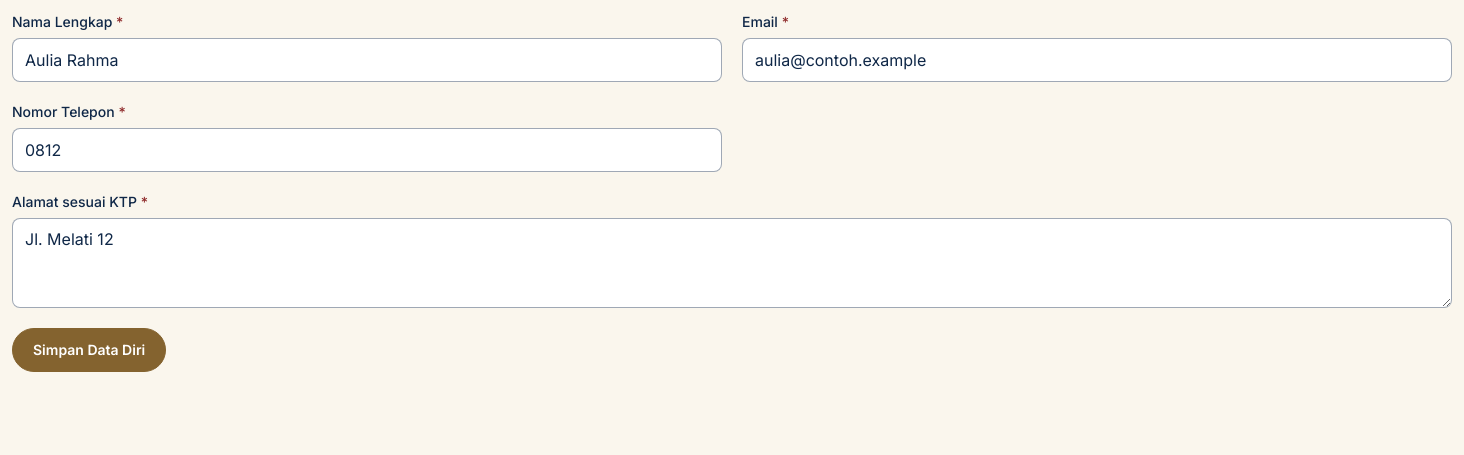
Scenario: FormProfil (FR-AKN-07/08) › FR_AKN_07_profil_kirim_hanya_4_field
Replace the text in the field labelled "Nama Lengkap *" with "Aulia R.": (367,60) left=12, top=38, right=722, bottom=82
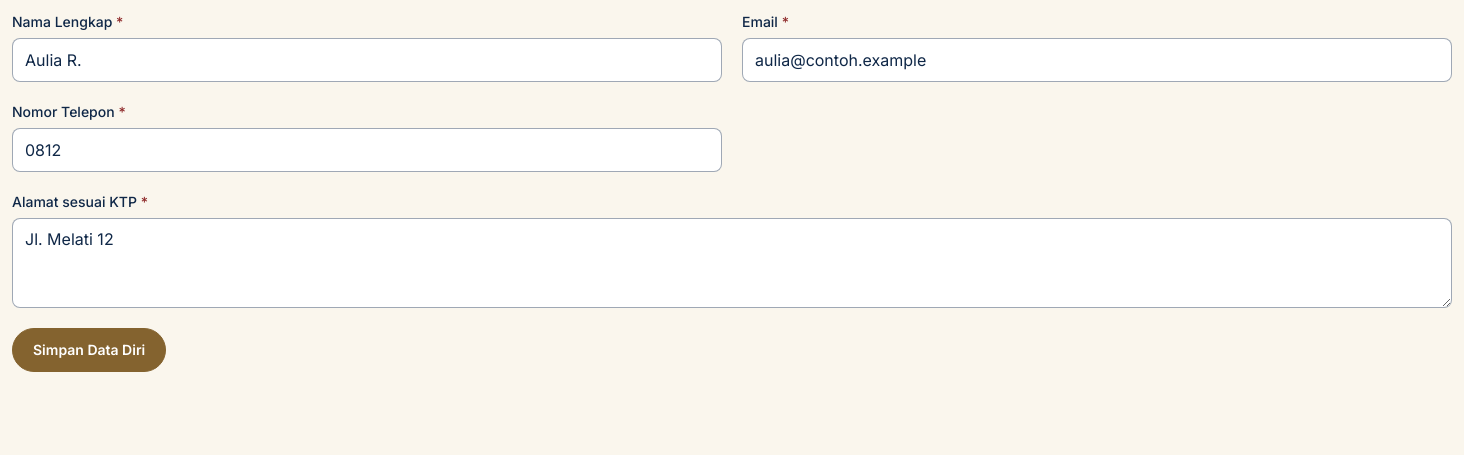
Click the button "Simpan Data Diri": (89,350) left=12, top=328, right=166, bottom=372
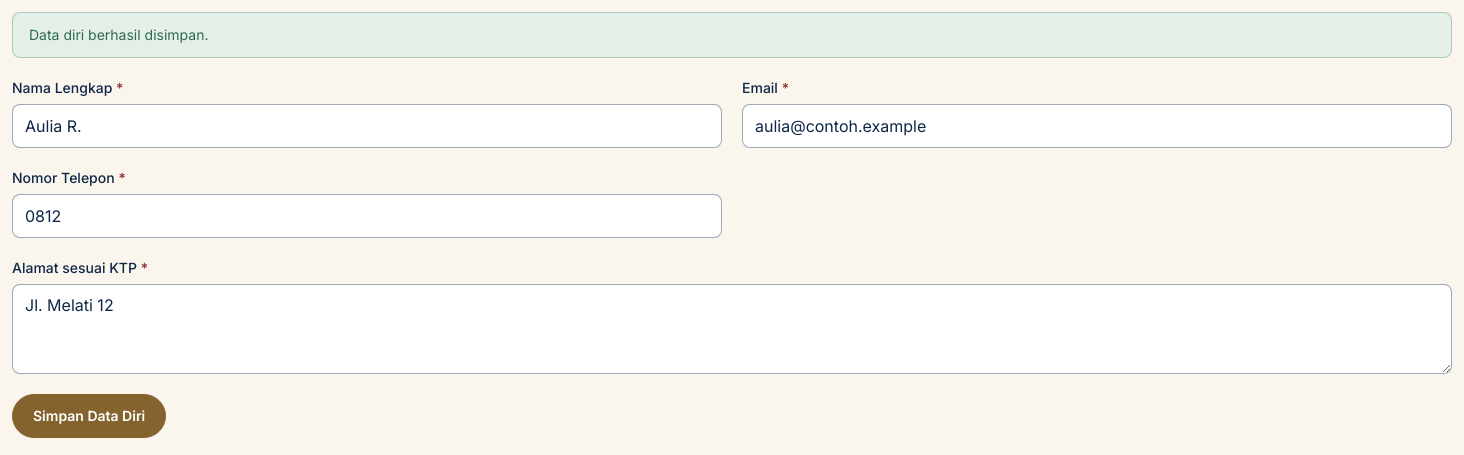
expect the text "Data diri berhasil disimpan." is shown: met, box left=29, top=26, right=208, bottom=43
